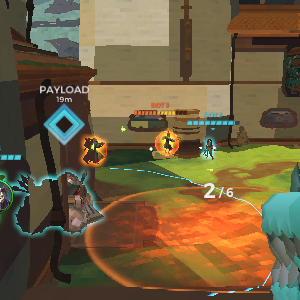model: (83, 136, 108, 165), (161, 128, 173, 154)
